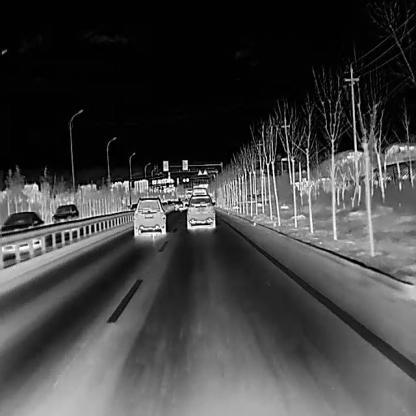car: (0, 210, 46, 254), (132, 195, 166, 237), (184, 193, 215, 229), (51, 204, 83, 233), (174, 199, 184, 211)
